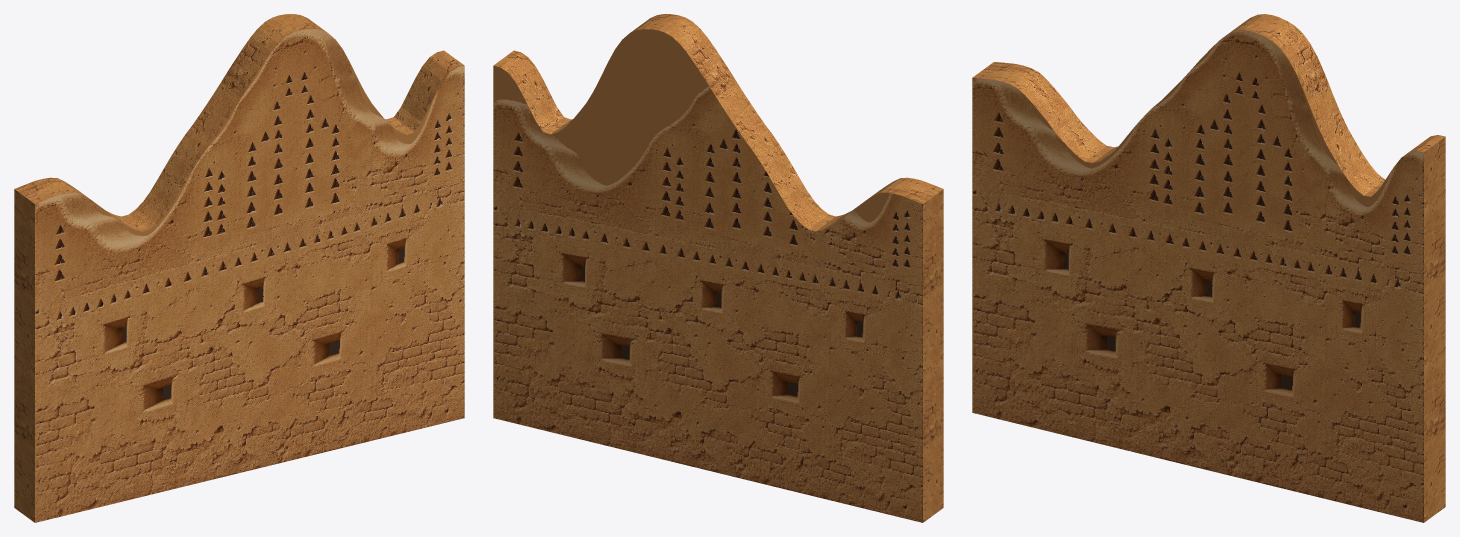
The model's file is facade_gable.glb.
3 views of the same model, side by side, from view 1: azimuth 30°, elevation 25°; view 2: azimuth 150°, elevation 25°; view 3: azimuth 330°, elevation 25° (orthographic). The views are drawn at different scales.
Visible parts, largest first — view 1: FacadeGable; view 2: FacadeGable; view 3: FacadeGable.
Part boxes in pixels (x1,y1,x2,y2): FacadeGable: (14, 14, 464, 522); FacadeGable: (493, 14, 943, 522); FacadeGable: (972, 14, 1445, 522).
Size of the model in its own units: 6 by 5.71 by 0.5.
Materials: 2 (2 with a texture image).
